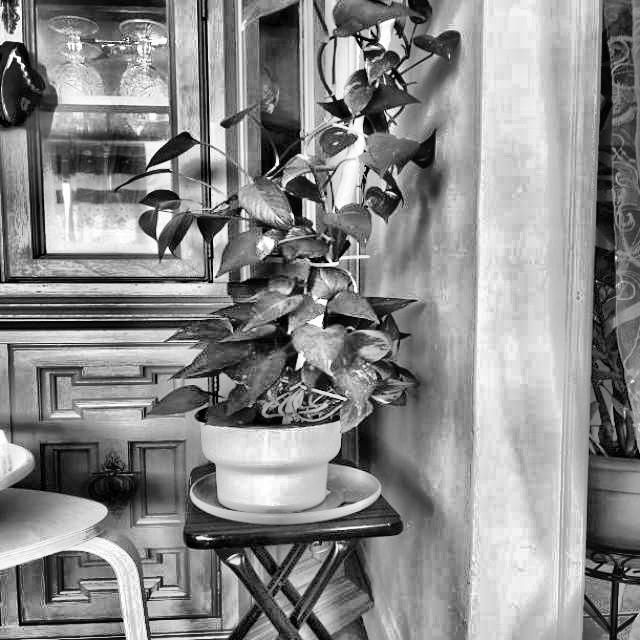plants: (117, 11, 445, 456)
